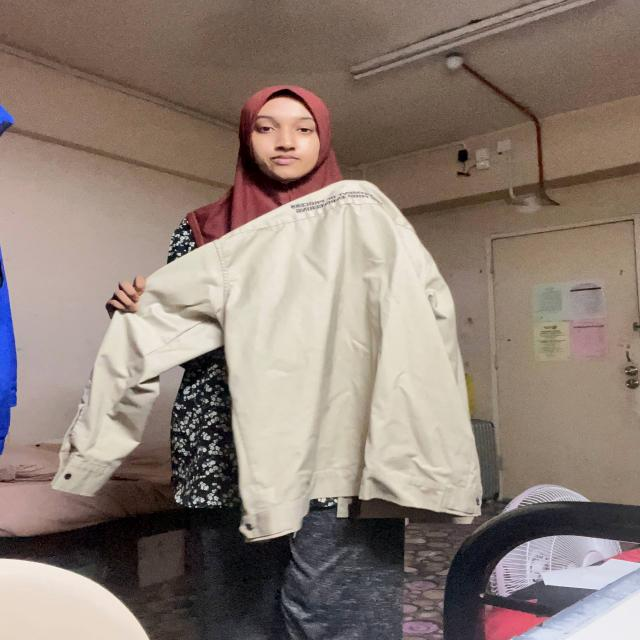person_without_labcoat: (53, 86, 481, 640)
